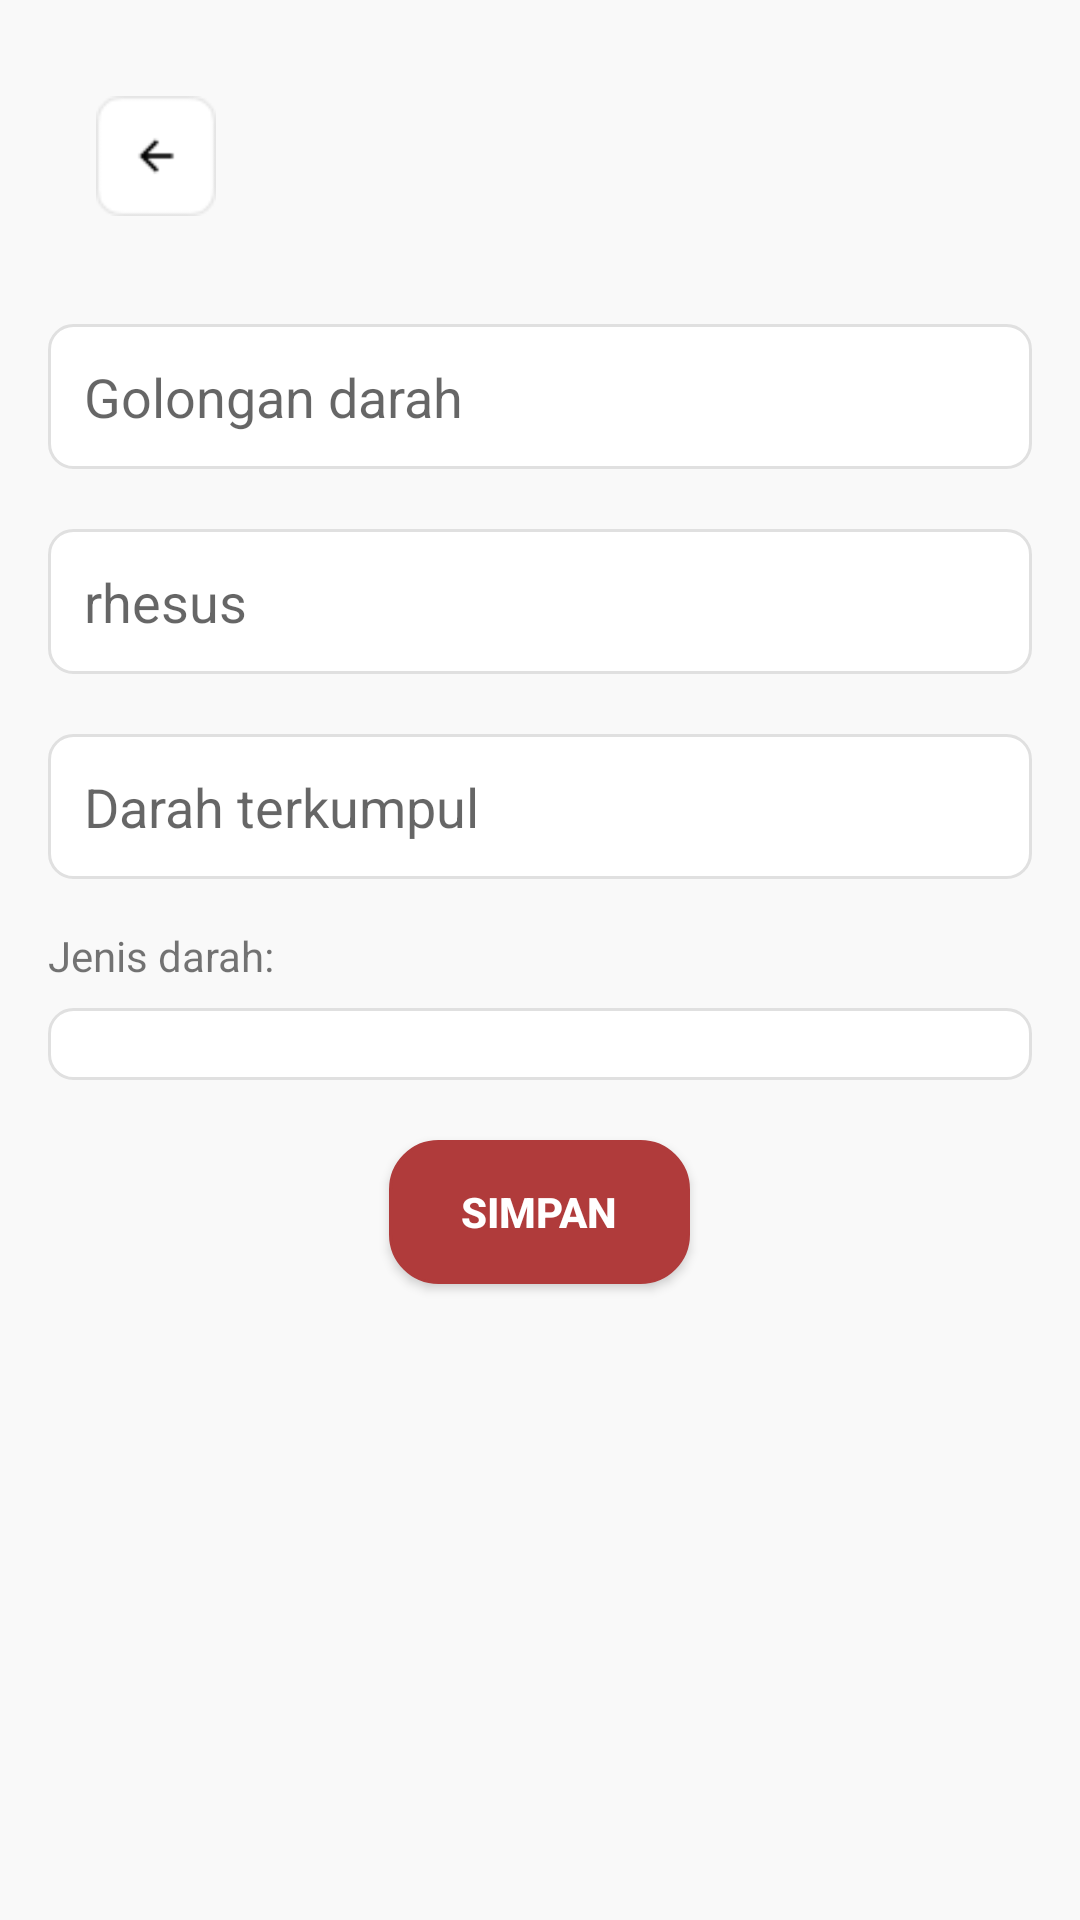

Screen size 1080x1920. Icon name, then its center in pixels as (x=x, y=y):
back: (x=156, y=156)
